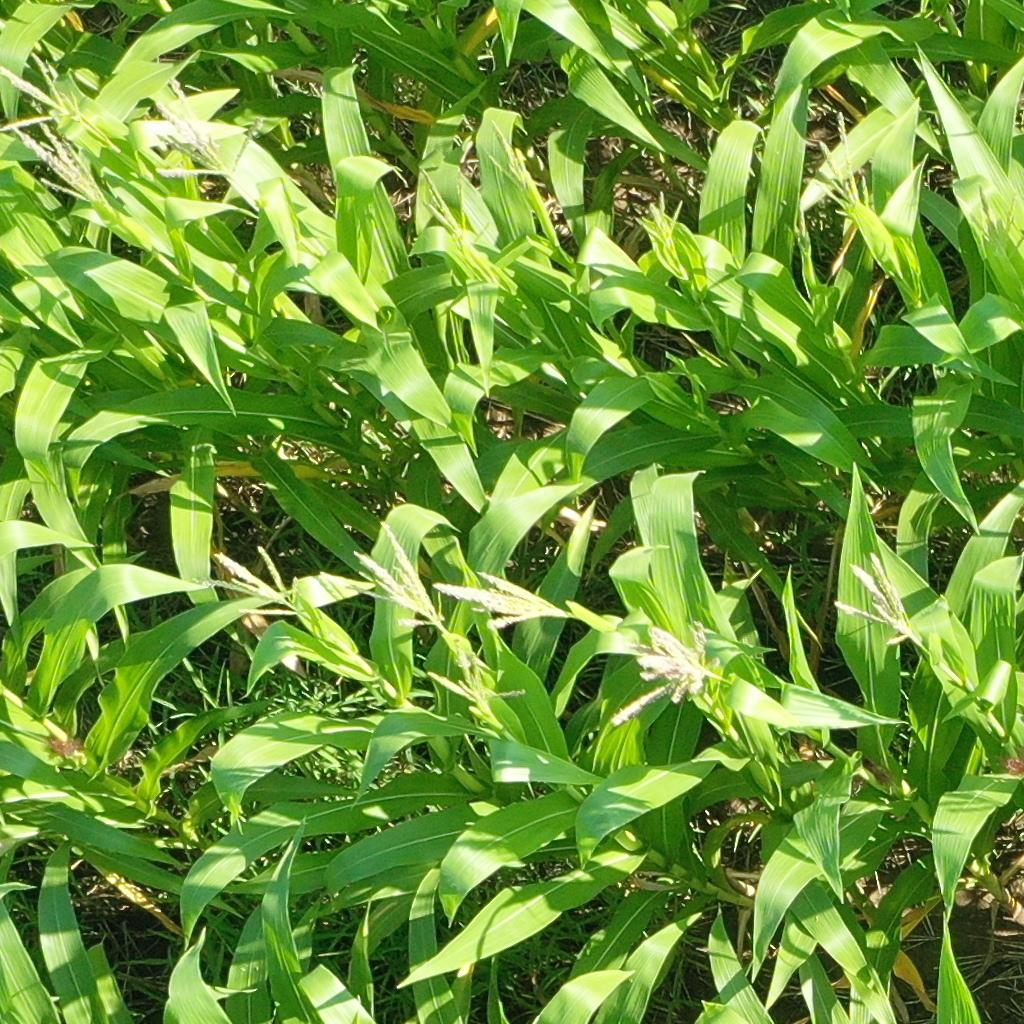Tassel: (604, 614, 737, 730), (141, 79, 264, 185), (337, 519, 449, 632), (827, 551, 947, 648), (9, 119, 111, 211), (430, 564, 570, 631), (187, 542, 307, 619), (798, 108, 872, 218), (426, 633, 526, 709), (1, 49, 85, 134), (957, 179, 1024, 262), (477, 118, 534, 188), (419, 160, 469, 236), (633, 190, 688, 250)
